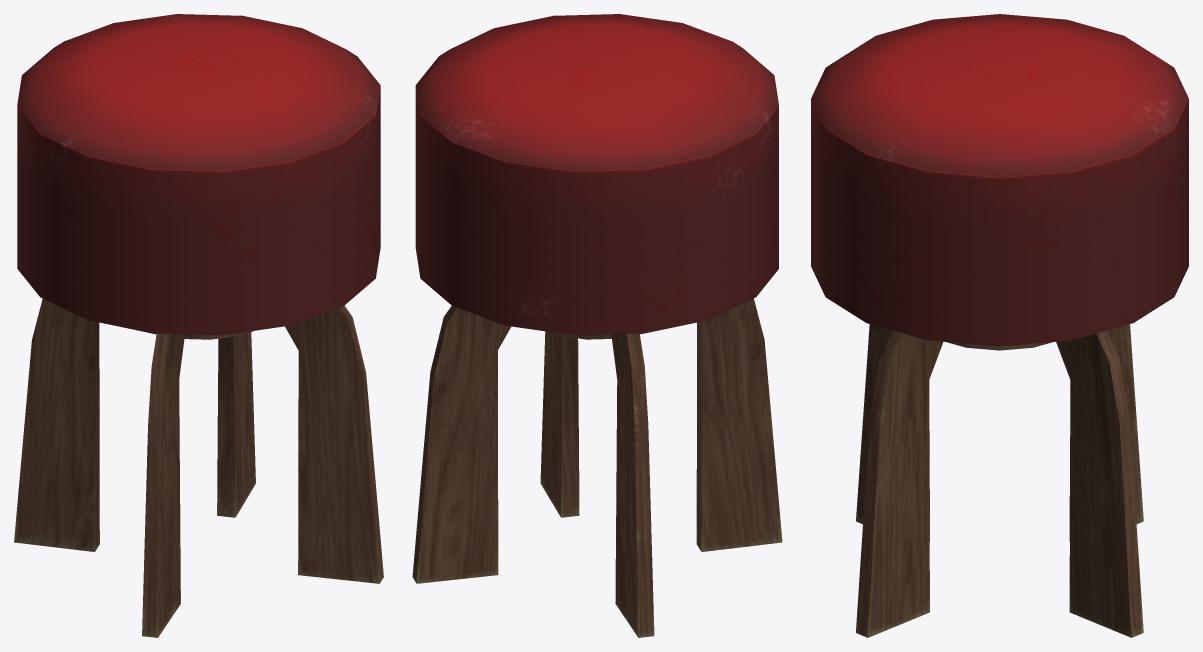
Rendered from sb_obj_indoor013_piano02.fbx.
3 renders of one model, left to right at view 1: azimuth 30°, elevation 25°; view 2: azimuth 150°, elevation 25°; view 3: azimuth 270°, elevation 25°, orthographic. The views are drawn at different scales.
Visible parts, largest first — view 1: sb_obj_indoor013_piano02; view 2: sb_obj_indoor013_piano02; view 3: sb_obj_indoor013_piano02.
Boxes of the visible parts, left/top/right/bottom form: sb_obj_indoor013_piano02: left=14, top=14, right=383, bottom=637; sb_obj_indoor013_piano02: left=412, top=14, right=782, bottom=637; sb_obj_indoor013_piano02: left=811, top=14, right=1188, bottom=637.
Size of the model in its own units: 0.3024 by 0.4432 by 0.3024.
